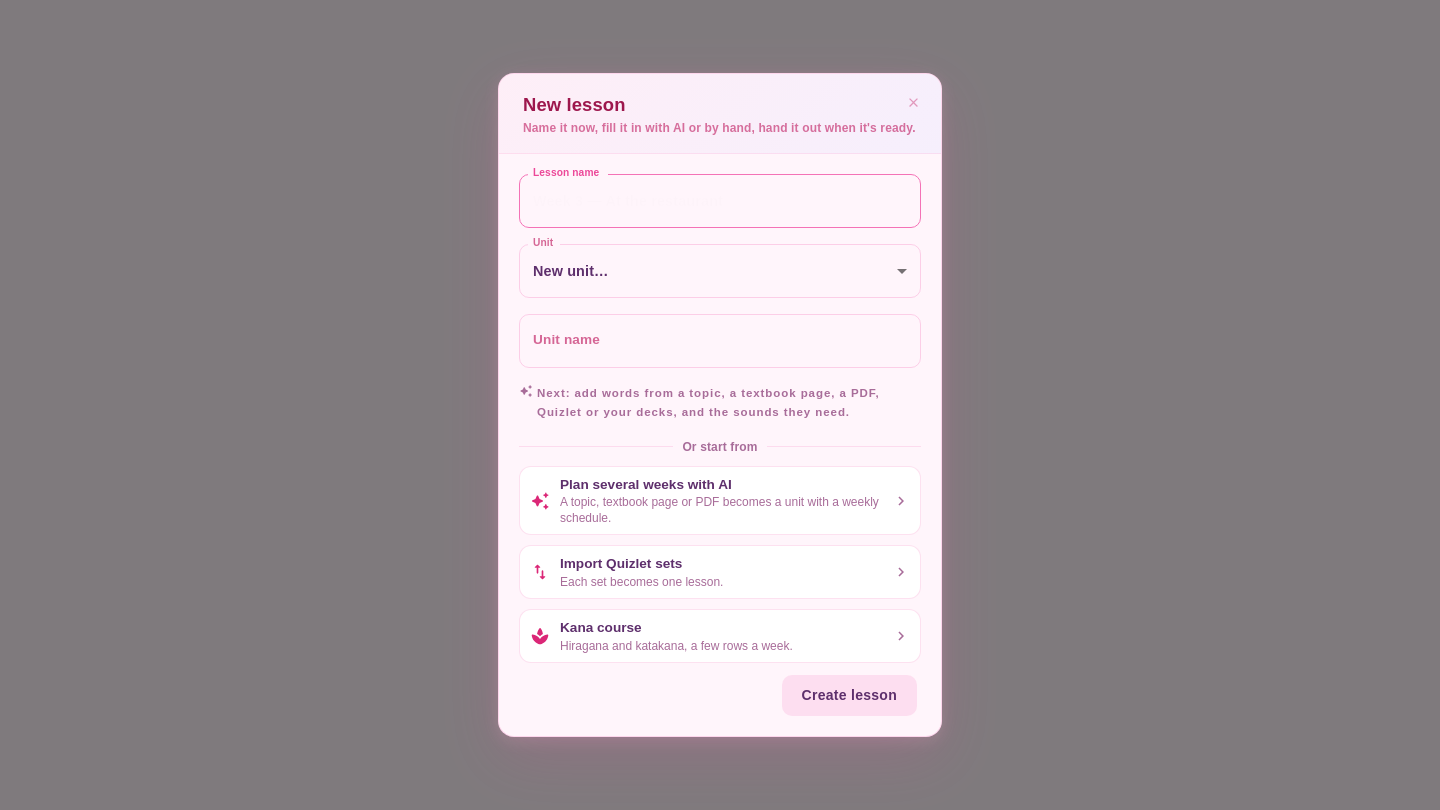
it: NewLessonDialog › disables the create button while saving and when the title is empty
expect the button "Create lesson" is disabled: met, box left=782, top=675, right=917, bottom=716
In the field with placeholder "Week 3 — At the restaurant": (720, 201) left=519, top=174, right=921, bottom=228, type "Week 1"
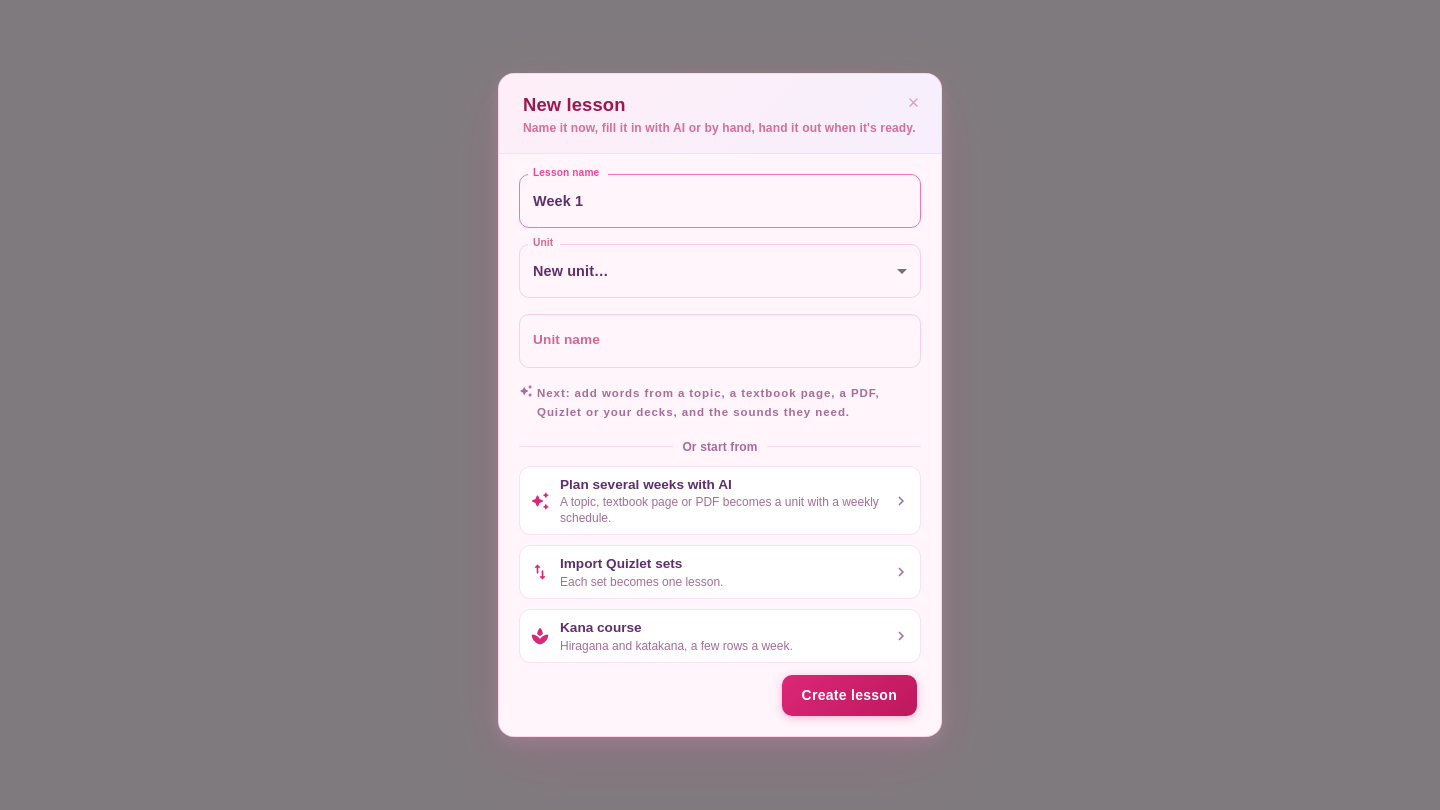
expect the button "Create lesson" is enabled: met, box left=782, top=675, right=917, bottom=716
